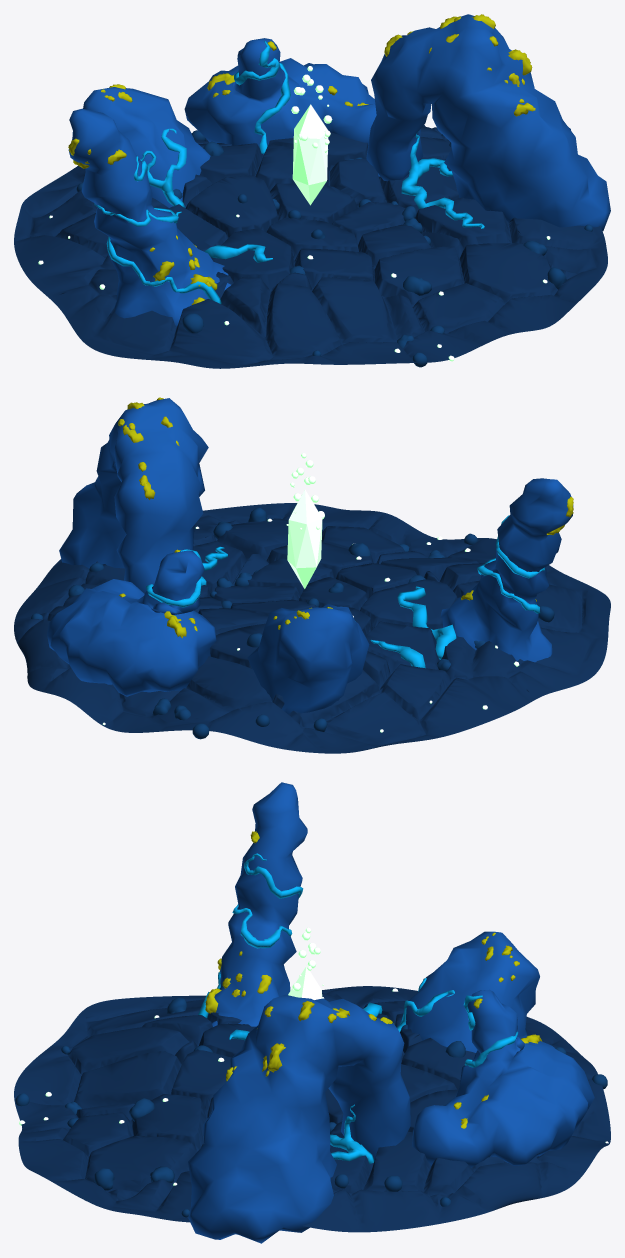
File: alien_planet.glb
3 renders of one model, top to bottom at view 1: azimuth 30°, elevation 25°; view 2: azimuth 150°, elevation 25°; view 3: azimuth 270°, elevation 25°, orthographic. The views are drawn at different scales.
Visible parts, largest first — view 1: Ground_0, Rock 1.001_3, Rock 1.002_4, Rock 2_2, Rock 1_1, Crystal_10, Plane_5, Plane.003_8, Plane.001_6, Plane.002_7; view 2: Ground_0, Rock 1.001_3, Rock 2_2, Rock 1.002_4, Rock 1_1, Crystal_10, Plane_5, Plane.003_8, Plane.001_6; view 3: Ground_0, Rock 1.001_3, Rock 2_2, Rock 1.002_4, Rock 1_1, Plane.003_8, Plane_5, Plane.001_6, Crystal_10.
Boxes of the visible parts, x1=… form: Ground_0: x1=14, y1=125, x2=607, y2=368; Rock 1.001_3: x1=366, y1=14, x2=610, y2=230; Rock 1.002_4: x1=68, y1=108, x2=230, y2=326; Rock 2_2: x1=184, y1=38, x2=376, y2=154; Rock 1_1: x1=83, y1=87, x2=210, y2=207; Crystal_10: x1=292, y1=104, x2=328, y2=205; Plane_5: x1=175, y1=131, x2=484, y2=262; Plane.003_8: x1=94, y1=156, x2=221, y2=303; Plane.001_6: x1=234, y1=41, x2=290, y2=153; Plane.002_7: x1=140, y1=128, x2=186, y2=208; Ground_0: x1=14, y1=503, x2=610, y2=753; Rock 1.001_3: x1=59, y1=398, x2=208, y2=593; Rock 2_2: x1=47, y1=550, x2=216, y2=696; Rock 1.002_4: x1=440, y1=478, x2=573, y2=662; Rock 1_1: x1=247, y1=604, x2=369, y2=714; Crystal_10: x1=287, y1=489, x2=322, y2=588; Plane_5: x1=201, y1=546, x2=456, y2=668; Plane.003_8: x1=477, y1=515, x2=544, y2=613; Plane.001_6: x1=145, y1=549, x2=202, y2=607; Ground_0: x1=14, y1=986, x2=610, y2=1232; Rock 1.001_3: x1=188, y1=994, x2=410, y2=1243; Rock 2_2: x1=412, y1=989, x2=594, y2=1167; Rock 1.002_4: x1=212, y1=782, x2=307, y2=1026; Rock 1_1: x1=406, y1=931, x2=539, y2=1052; Plane.003_8: x1=198, y1=853, x2=303, y2=1018; Plane_5: x1=229, y1=1002, x2=382, y2=1163; Plane.001_6: x1=463, y1=995, x2=518, y2=1067; Crystal_10: x1=288, y1=966, x2=322, y2=999.
Bounding box in the file's own units: 9.41 × 4.14 × 9.14.
